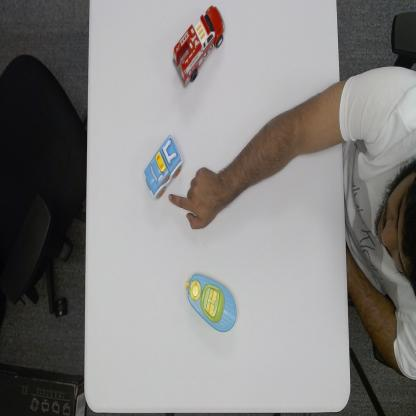Arm: (222, 91, 341, 212)
Boat: (184, 270, 238, 334)
Car: (144, 132, 183, 202)
Firetruck: (171, 3, 226, 90)
Hand: (168, 166, 222, 233)
